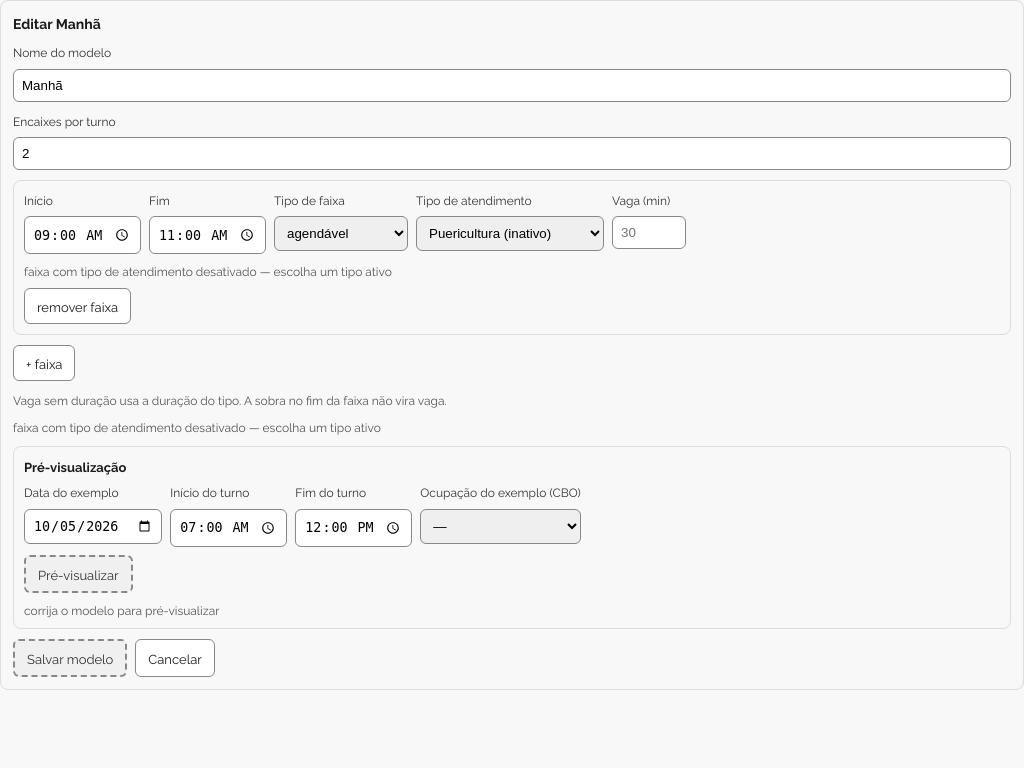
Test: TemplateEditor › faixa com tipo inativo continua no select marcada e pede troca
Check: the button "Salvar modelo" is disabled, box [13,639,127,677]
Select "Consulta de enfermagem" in the dropdown labelled "Tipo de atendimento" at (510,234), box [416,216,604,252]
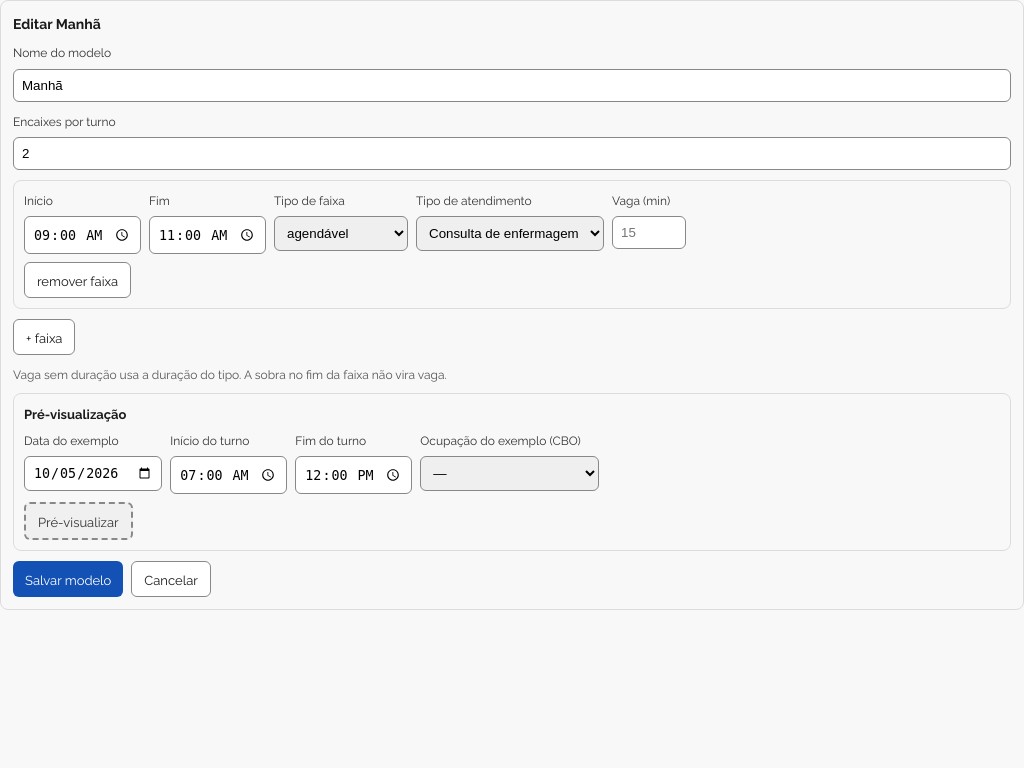
Check: the button "Salvar modelo" is enabled, box [13,561,123,597]
